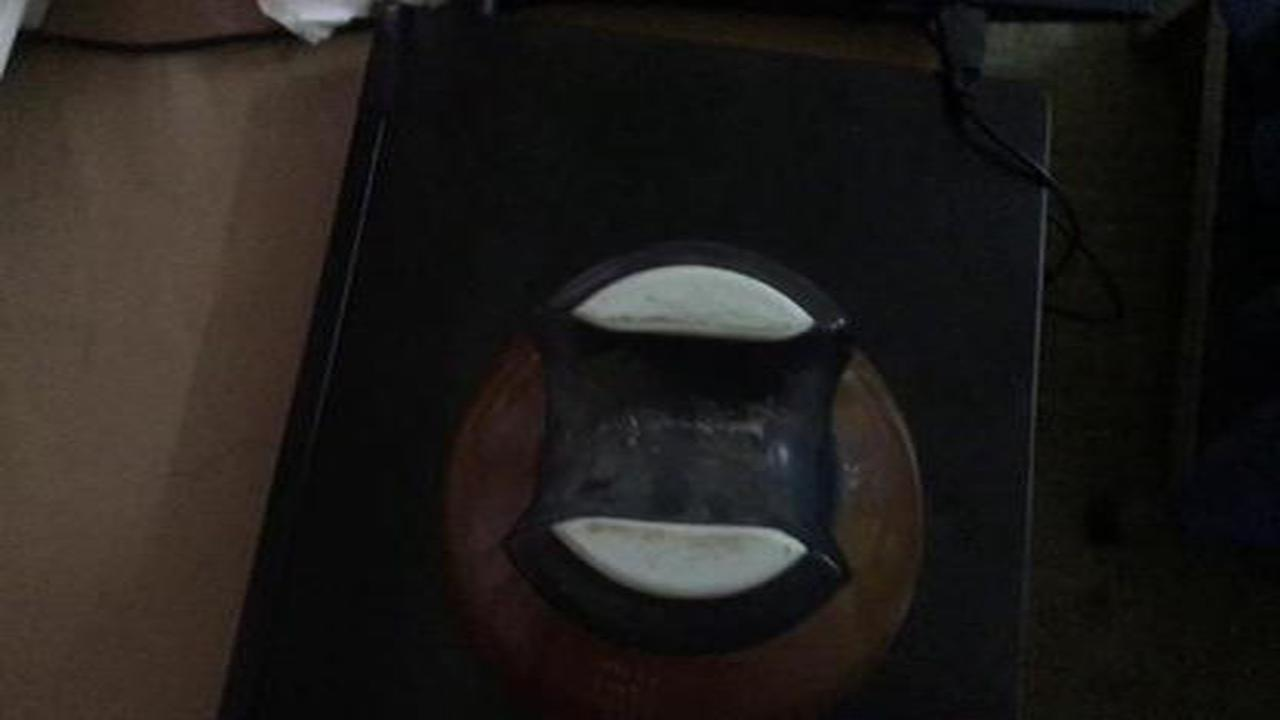insulator_pin: (416, 233, 961, 698)
